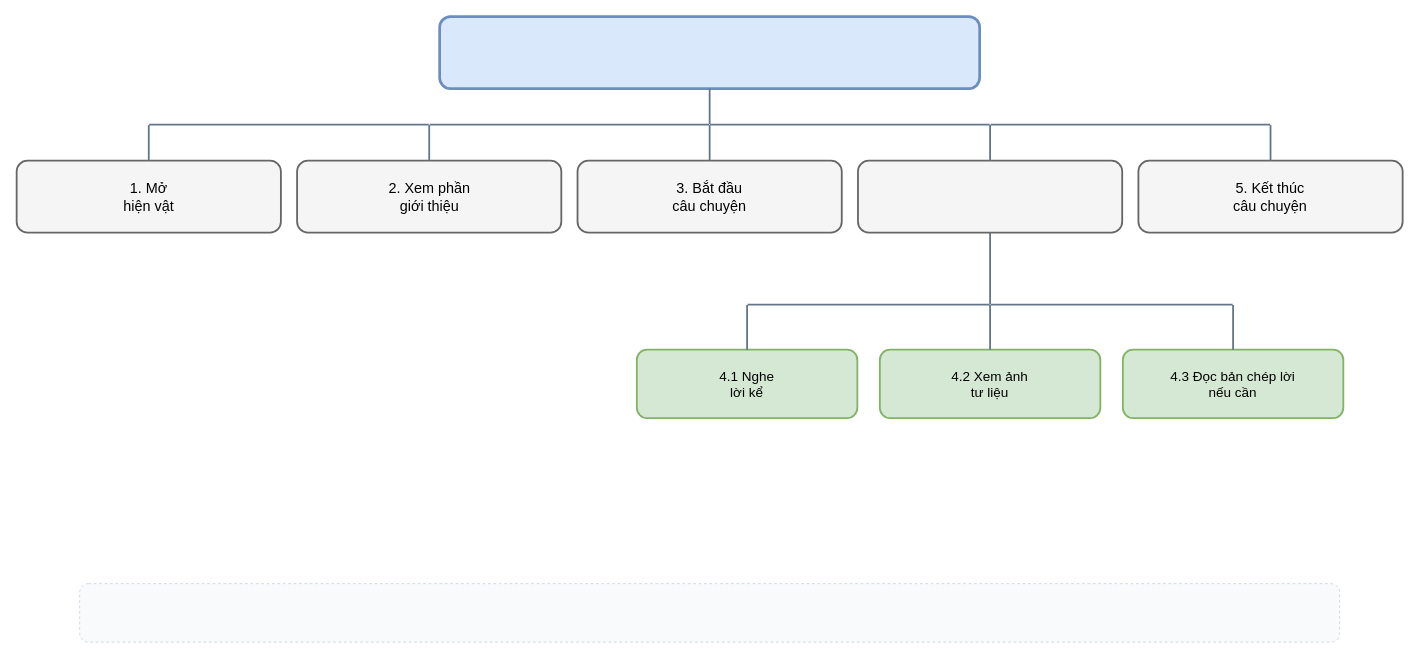
Image size: 1418x658. Some labels were removed from this diagram. Here are the shapes that lost their labels. From the top down, the centre of each, then its label:
(x=709, y=52): 0. Nghe câu chuyện ngắn có âm thanh và hình ảnh
(x=990, y=196): 4. Trải nghiệm nội dung
(x=709, y=612): Plan 0: 1 → 2 → 3 → 4; thực hiện 4.1 và 4.2, dùng 4.3 khi cần → 5.
